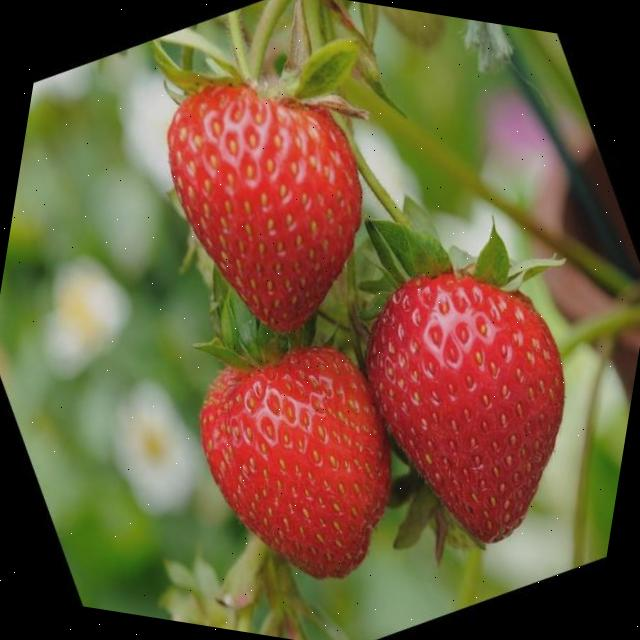strawberry: (366, 273, 565, 543), (167, 85, 362, 331), (199, 346, 391, 578)
